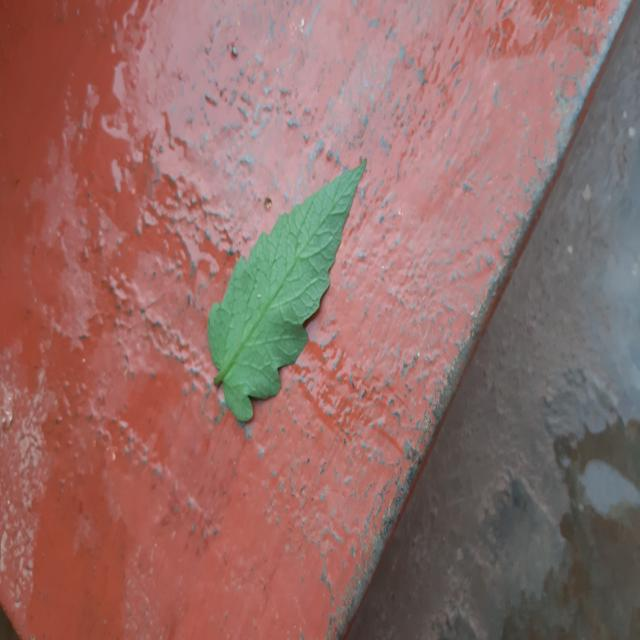tomato: (208, 160, 366, 422)
